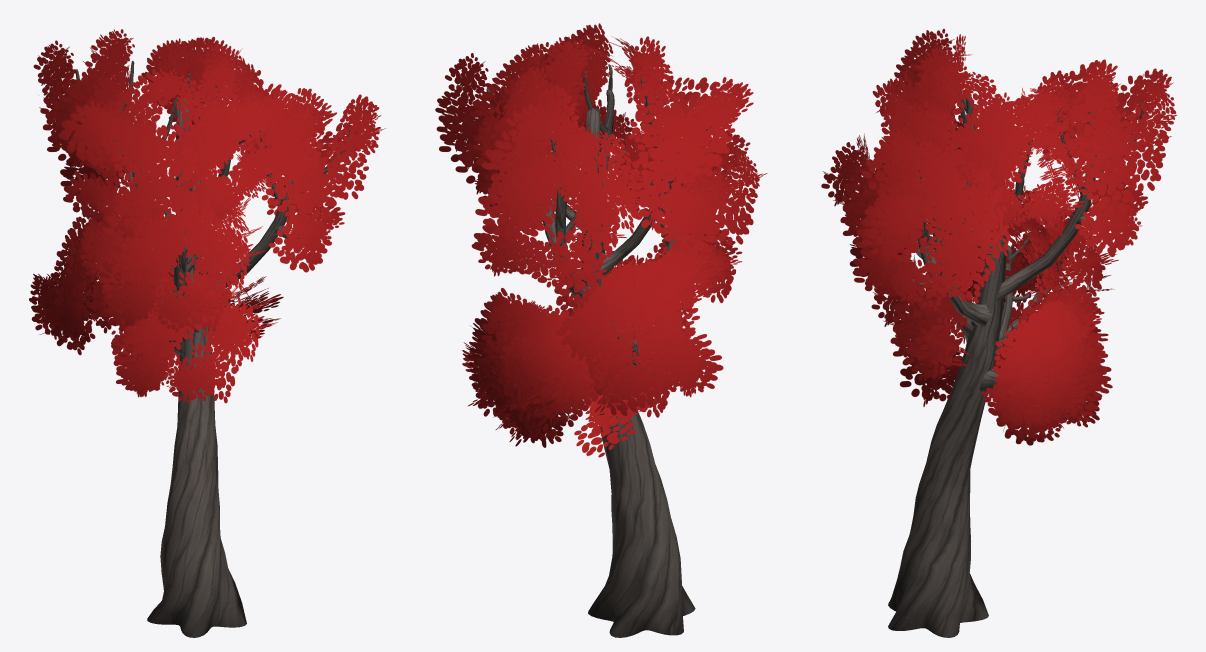
The model's file is prop_snm_twisted_tree_4.glb.
3 views of the same model, side by side, from view 1: azimuth 30°, elevation 25°; view 2: azimuth 150°, elevation 25°; view 3: azimuth 270°, elevation 25° (orthographic). The views are drawn at different scales.
Parts seen in each view (by area): view 1: TwistedTree_5; view 2: TwistedTree_5; view 3: TwistedTree_5.
Boxes of the visible parts, x1=… form: TwistedTree_5: x1=29, y1=29, x2=385, y2=637; TwistedTree_5: x1=435, y1=23, x2=767, y2=637; TwistedTree_5: x1=821, y1=28, x2=1176, y2=637.
Size of the model in its own units: 9.49 by 15.66 by 9.39.
2 materials, 2 textured.
